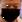with_mask: (1, 1, 22, 22)
